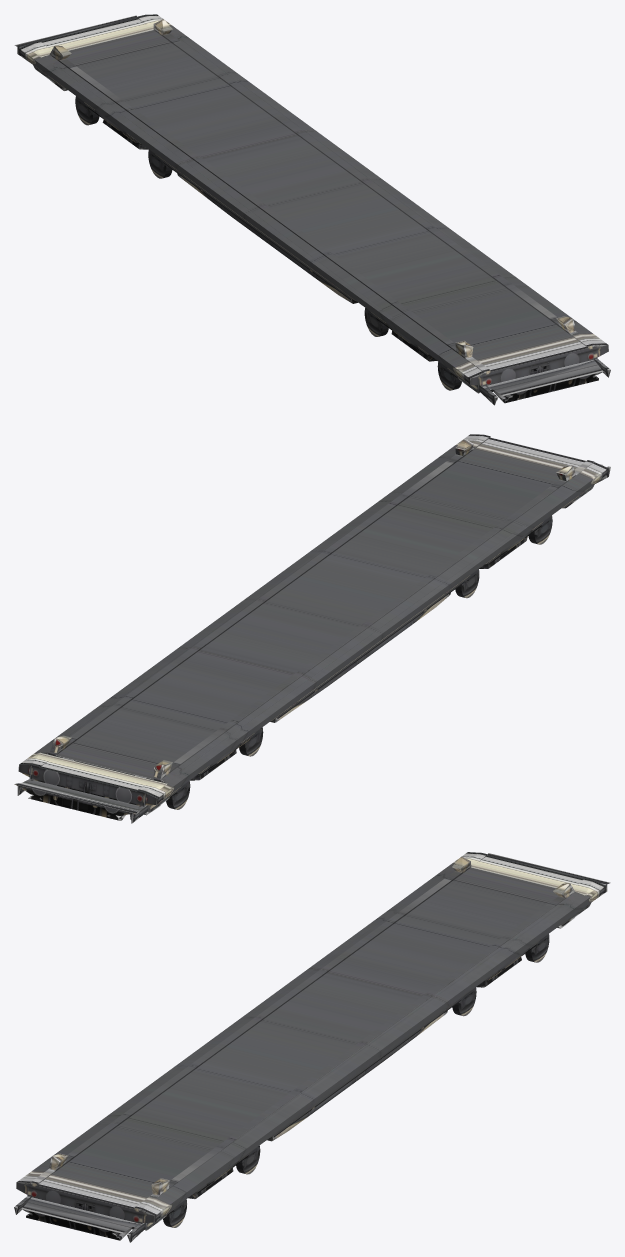
File: flatcar.glb
3 renders of one model, top to bottom at view 1: azimuth 30°, elevation 25°; view 2: azimuth 150°, elevation 25°; view 3: azimuth 330°, elevation 25°, orthographic.
Visible parts, largest first — view 1: flatcar; view 2: flatcar; view 3: flatcar.
Boxes of the visible parts, <box> form: flatcar: <box>14,14,610,405</box>; flatcar: <box>14,434,610,823</box>; flatcar: <box>14,852,610,1242</box>.
Bounding box in the file's own units: 3 × 1.29 × 17.98.
Materials: 3 (1 with a texture image).
